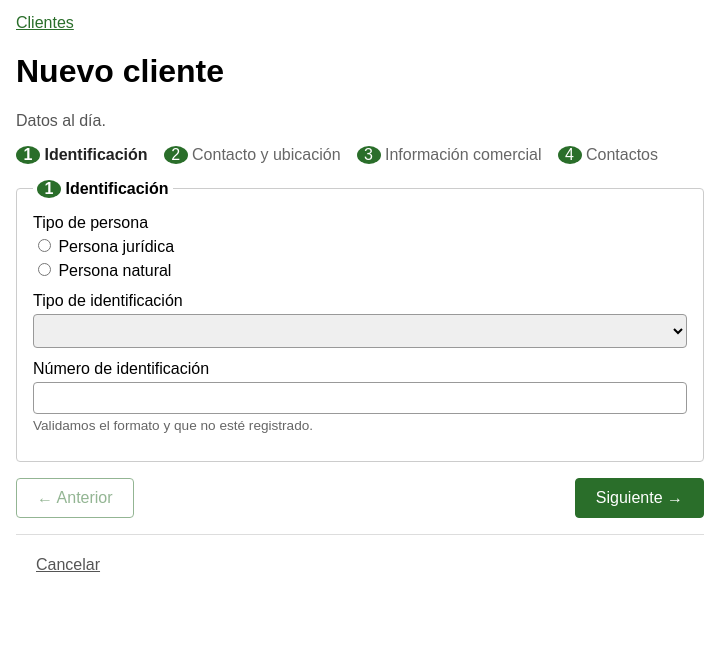
Scenario: CustomerNewComponent (/nuevo-prospecto) › obligatorios › fld_98e5c2bf7a · fld_2def6e5353 · fld_10bed3f3b1 · fld_b779dfd9c9 · fld_3a61e63ab6 :required — sin ellos no se envía y aparece cada mensaje literal
What coordinates should you click on to do the following:
click the button "Siguiente →"
I would click on:
 (639, 498)
Its box is [575,478,704,518].
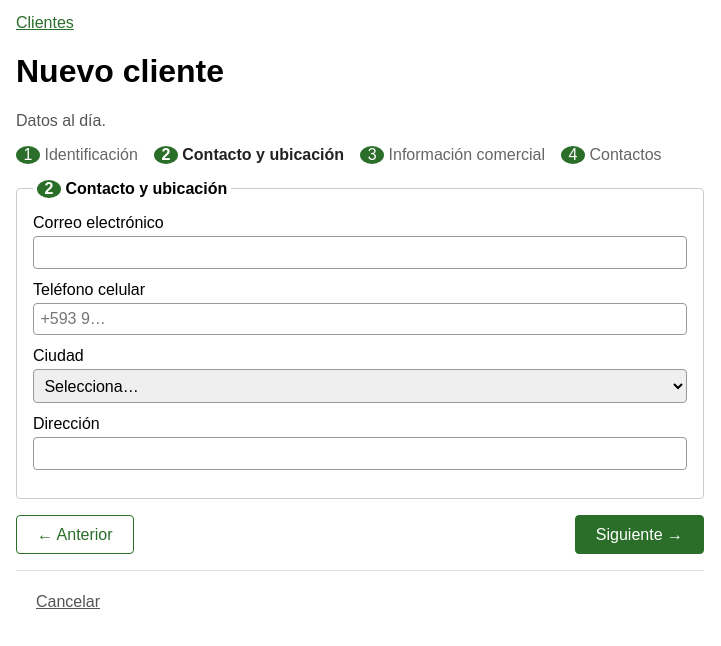
What coordinates should you click on to do the following:
click the button "Siguiente →"
I would click on:
 (639, 535)
Its box is [575,515,704,554].
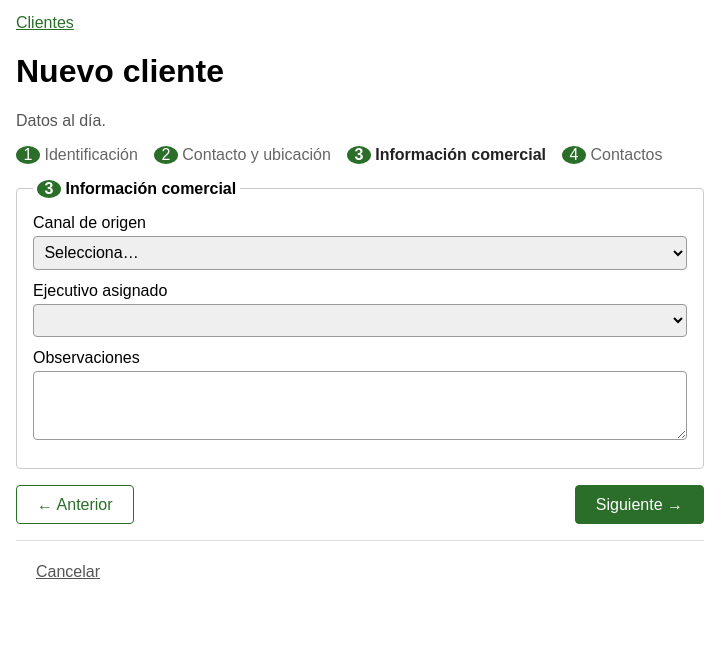
What coordinates should you click on to do the following:
click the button "Siguiente →"
I would click on:
 (639, 505)
Its box is [575,485,704,524].
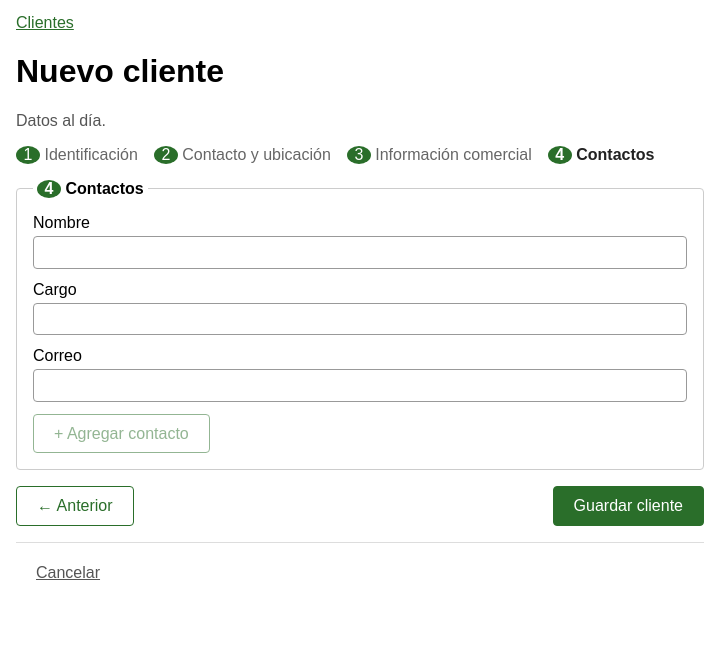
What coordinates should you click on to do the following:
click the button "Guardar cliente"
I would click on:
 (628, 506)
Its box is [553,486,704,526].
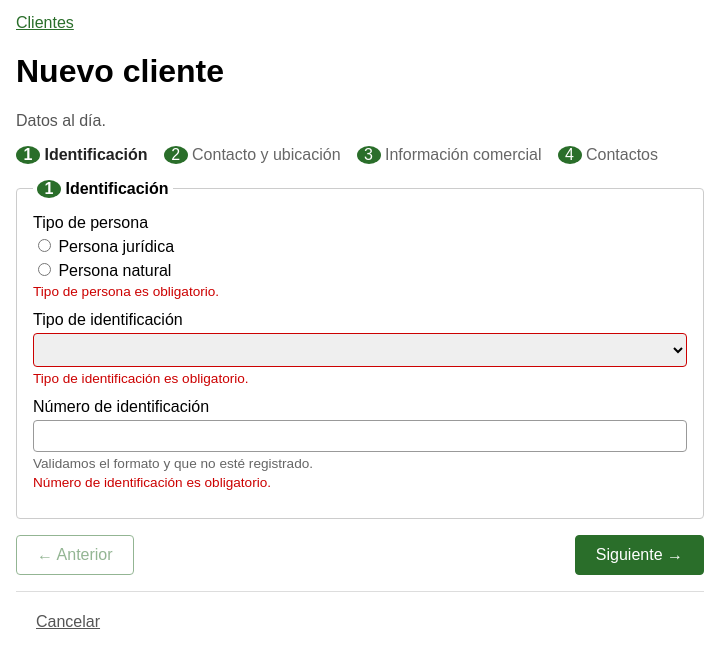
Expected: the text "Tipo de persona es obligatorio." is shown, [33,284,219,299]
Expected: the text "Tipo de identificación es obligatorio." is shown, [33,371,249,386]
Expected: the text with id "err-idNumber" reads "Número de identificación es obligatorio.", [33,475,271,490]
What coordinates should you click on to do the following:
click the button "Siguiente →"
I would click on:
 (639, 555)
Its box is [575,535,704,575].
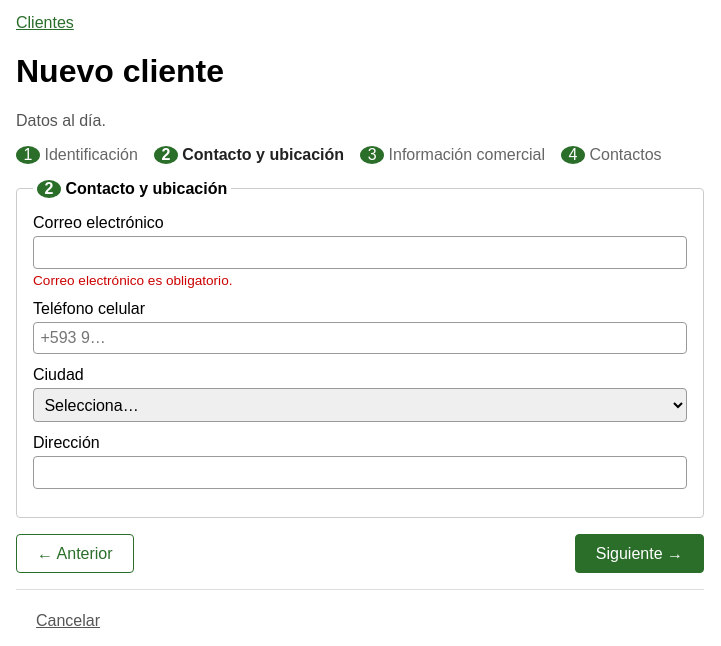
Expected: the text with id "err-email" reads "Correo electrónico es obligatorio.", [33,273,232,288]
What coordinates should you click on to do the following:
click the button "Siguiente →"
I would click on:
 (639, 554)
Its box is [575,534,704,573].
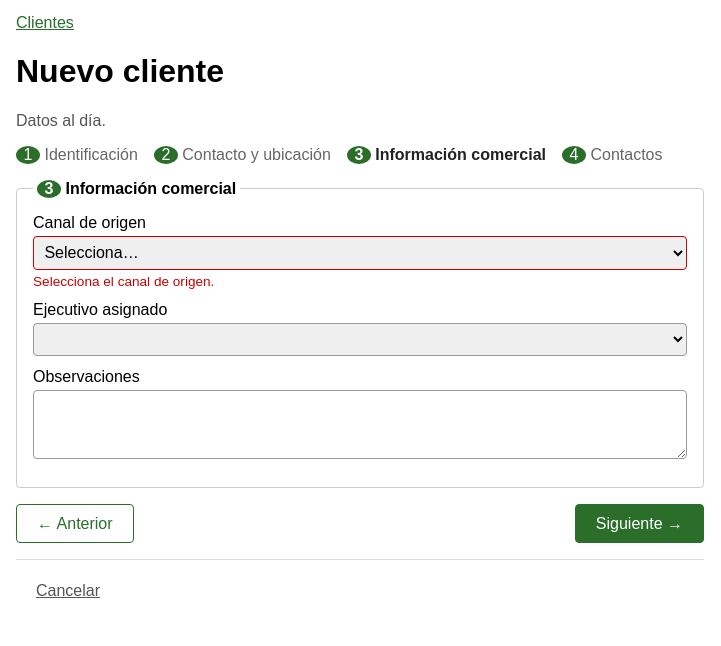
Expected: the text "Selecciona el canal de origen." is shown, [33,274,214,289]
